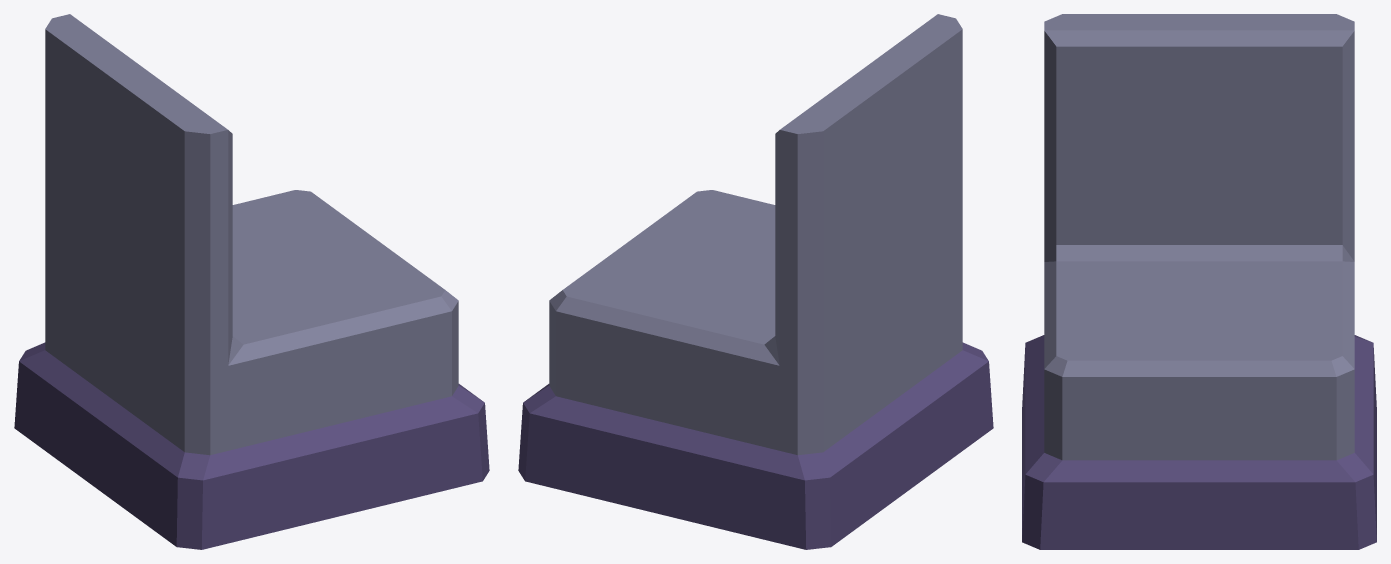
Rendered from Silla_Piedra.fbx.
3 renders of one model, left to right at view 1: azimuth 30°, elevation 25°; view 2: azimuth 150°, elevation 25°; view 3: azimuth 270°, elevation 25°, orthographic.
Parts seen in each view (by area): view 1: Cube.001; view 2: Cube.001; view 3: Cube.001.
Boxes of the visible parts, x1,y1,x2,y2 form: Cube.001: (14,14,489,549); Cube.001: (518,14,993,549); Cube.001: (1022,14,1376,549).
Bounding box in the file's own units: 102 × 125 × 102.
